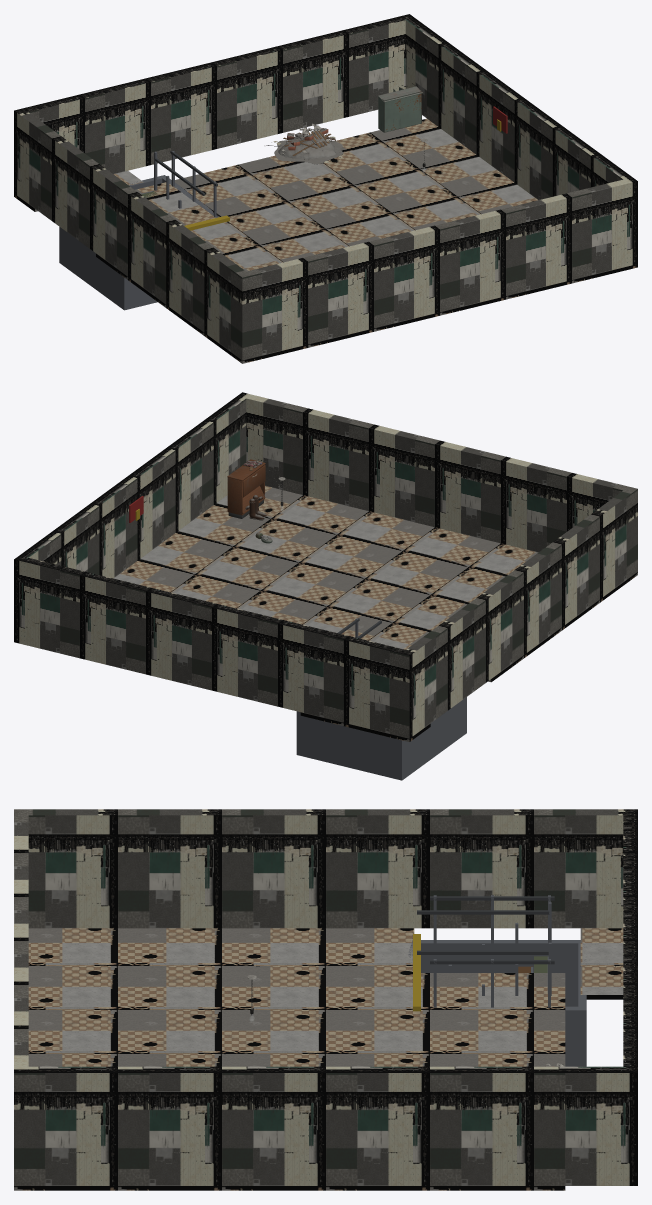
The model's file is room_stairwell_down.glb.
3 renders of one model, top to bottom at view 1: azimuth 30°, elevation 25°; view 2: azimuth 150°, elevation 25°; view 3: azimuth 270°, elevation 25°, orthographic. The views are drawn at different scales.
Visible parts, largest first — view 1: Floor, Wall_S_A, Wall_S_B, Wall_N_B, Wall_N_A, Wall_W_B, Wall_W_A, Wall_E_B, Plug_S, Plug_N, Wall_E_A, Plug_W (+10 smaller); view 2: Floor, Wall_N_A, Wall_N_B, Wall_S_B, Wall_S_A, Wall_W_A, Wall_W_B, Wall_E_A, Plug_S, Plug_N, WellWall_N, Wall_E_B (+9 smaller); view 3: Floor, Wall_E_A, Wall_E_B, Wall_W_A, Wall_W_B, Floor_NW, Plug_W, Plug_E, WellWall_W, Wall_N_B, Wall_S_B, Floor_NStrip (+13 smaller).
Part boxes in pixels (left/top/right/bottom): Floor: left=135, top=118, right=637, bottom=345; Wall_S_A: left=237, top=236, right=397, bottom=360; Wall_S_B: left=478, top=177, right=637, bottom=301; Wall_N_B: left=255, top=14, right=414, bottom=138; Wall_N_A: left=14, top=73, right=174, bottom=196; Wall_W_B: left=19, top=112, right=112, bottom=258; Wall_W_A: left=153, top=210, right=245, bottom=356; Wall_E_B: left=405, top=18, right=498, bottom=163; Plug_S: left=397, top=229, right=482, bottom=322; Plug_N: left=174, top=66, right=259, bottom=158; Wall_E_A: left=539, top=115, right=631, bottom=199; Plug_W: left=103, top=186, right=152, bottom=294; Floor: left=113, top=486, right=537, bottom=645; Wall_N_A: left=254, top=614, right=414, bottom=738; Wall_N_B: left=14, top=555, right=173, bottom=679; Wall_S_B: left=237, top=392, right=396, bottom=516; Wall_S_A: left=477, top=451, right=637, bottom=574; Wall_W_A: left=540, top=490, right=632, bottom=636; Wall_W_B: left=406, top=588, right=498, bottom=734; Wall_E_A: left=153, top=396, right=246, bottom=542; Plug_S: left=392, top=444, right=477, bottom=537; Plug_N: left=169, top=607, right=254, bottom=700; WellWall_N: left=296, top=711, right=404, bottom=780; Wall_E_B: left=19, top=494, right=112, bottom=578; Floor: left=14, top=973, right=565, bottom=1190; Wall_E_A: left=28, top=1066, right=258, bottom=1185; Wall_E_B: left=393, top=1066, right=623, bottom=1185; Wall_W_A: left=28, top=809, right=258, bottom=928; Wall_W_B: left=393, top=809, right=623, bottom=928; Floor_NW: left=28, top=928, right=414, bottom=994; Plug_W: left=258, top=829, right=393, bottom=928; Plug_E: left=258, top=1087, right=393, bottom=1185; WellWall_W: left=421, top=940, right=578, bottom=1006; Wall_N_B: left=623, top=969, right=637, bottom=1185; Wall_S_B: left=14, top=969, right=28, bottom=1185; Floor_NStrip: left=580, top=928, right=623, bottom=999.
Bounding box in the file's own units: 12 × 4.45 × 12.
15 materials, 7 textured.
